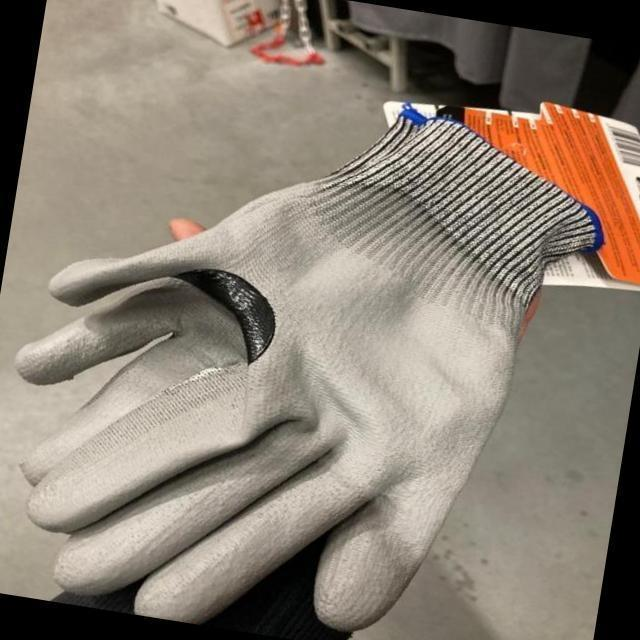glove: (13, 99, 604, 633)
